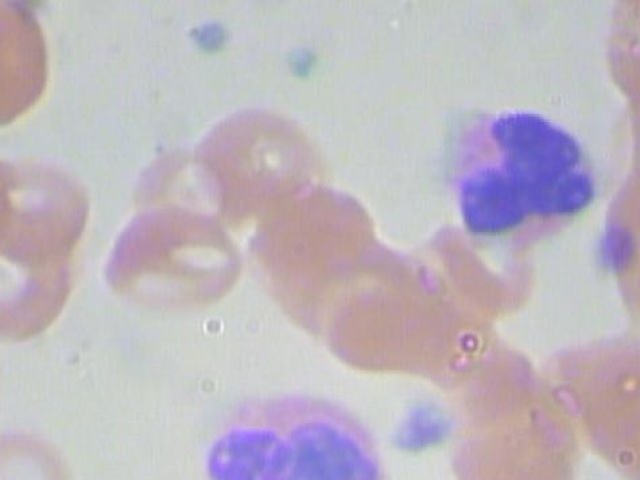Platelets: (384, 396, 463, 458), (272, 34, 325, 92), (586, 219, 639, 276), (183, 8, 236, 65)
RBC: (93, 193, 255, 329), (198, 94, 340, 225), (307, 241, 449, 372), (240, 171, 382, 301), (533, 317, 640, 447), (121, 147, 239, 250), (0, 143, 98, 262), (439, 399, 581, 480), (0, 228, 84, 347), (0, 0, 68, 133), (582, 366, 640, 480), (0, 416, 87, 480), (586, 0, 640, 101), (0, 314, 38, 429), (595, 0, 640, 23)
WBC: (422, 81, 616, 255), (197, 374, 401, 480)
